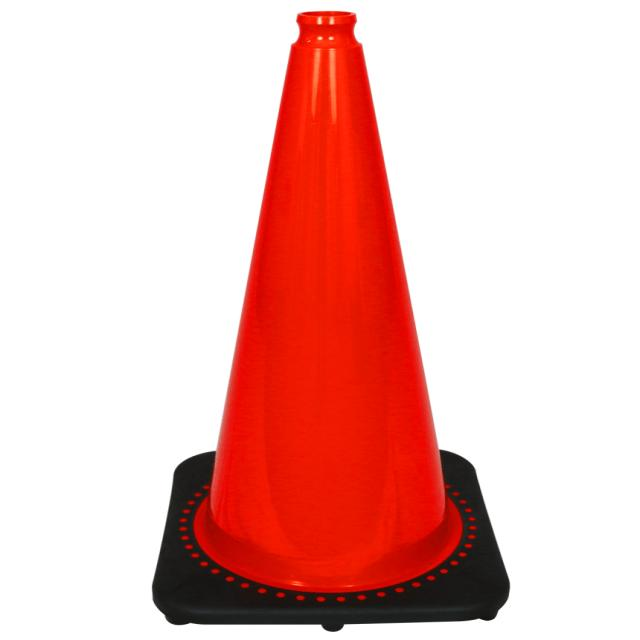traffic cone: (136, 7, 521, 640)
